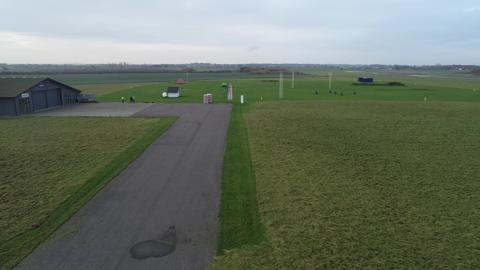RockwoolPallet: (207, 91, 215, 104)
